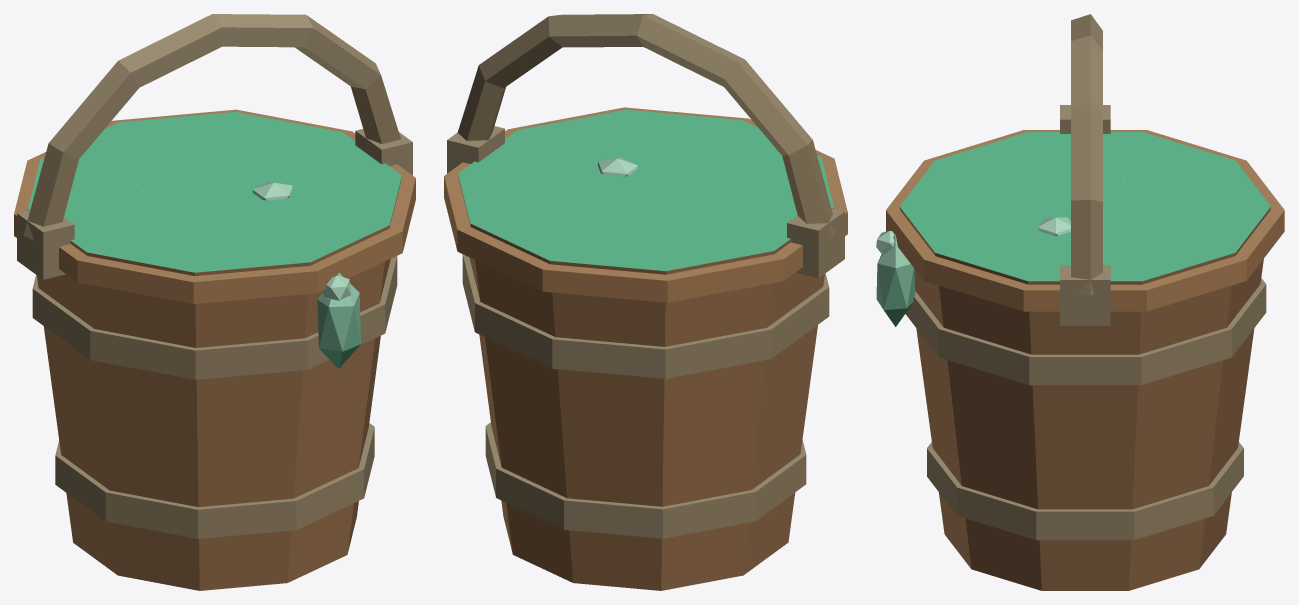
File: ranch_goo_bucket.fbx
3 views of the same model, side by side, from view 1: azimuth 30°, elevation 25°; view 2: azimuth 150°, elevation 25°; view 3: azimuth 270°, elevation 25° (orthographic). The views are drawn at different scales.
Visible parts, largest first — view 1: ranch_goo_bucket; view 2: ranch_goo_bucket; view 3: ranch_goo_bucket.
Boxes of the visible parts, x1,y1,x2,y2 form: ranch_goo_bucket: (14, 14, 415, 590); ranch_goo_bucket: (444, 14, 847, 590); ranch_goo_bucket: (876, 14, 1284, 590).
Bounding box in the file's own units: 2.16 × 2.82 × 2.09.
